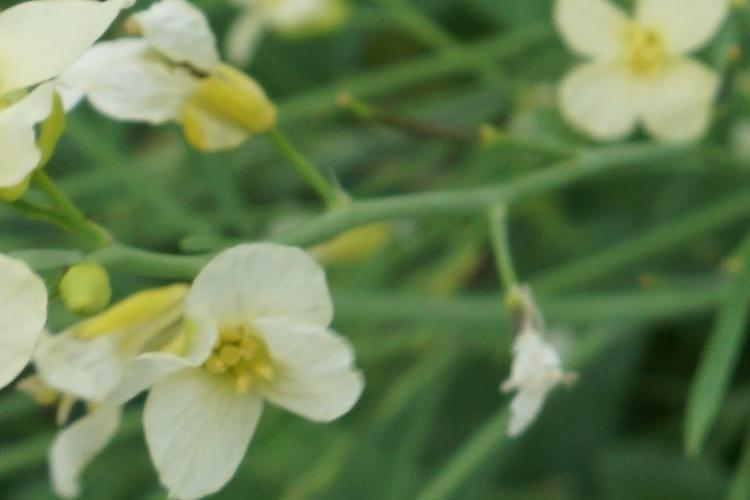bud: (68, 266, 114, 313)
white: (123, 260, 363, 477), (6, 9, 260, 155), (557, 9, 725, 150), (51, 306, 208, 391), (507, 293, 579, 419), (6, 265, 59, 390)
